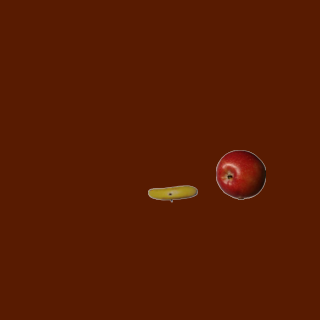Apple Braeburn: (215, 149, 265, 199)
Banana: (147, 168, 197, 218)
